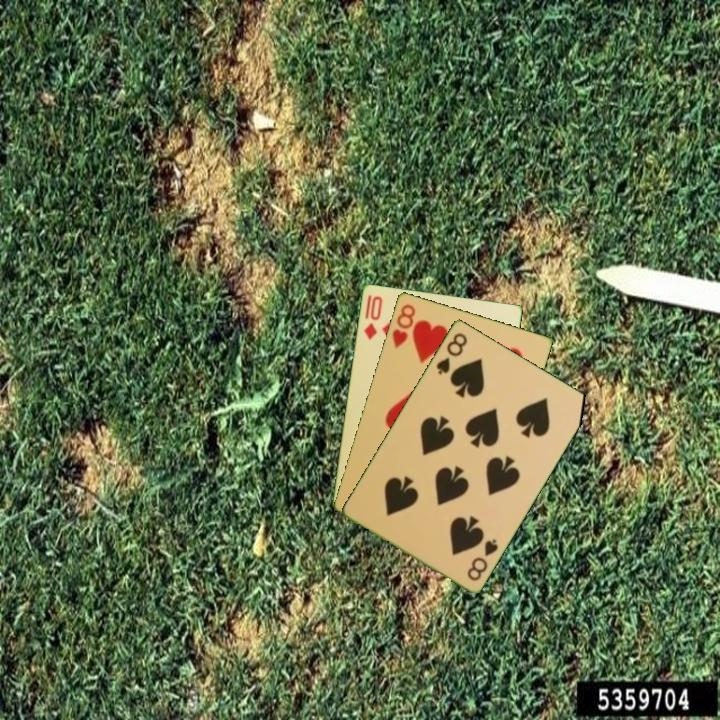10d: (360, 292, 385, 342)
8h: (388, 300, 418, 351)
8s: (463, 535, 501, 583), (433, 329, 470, 377)
